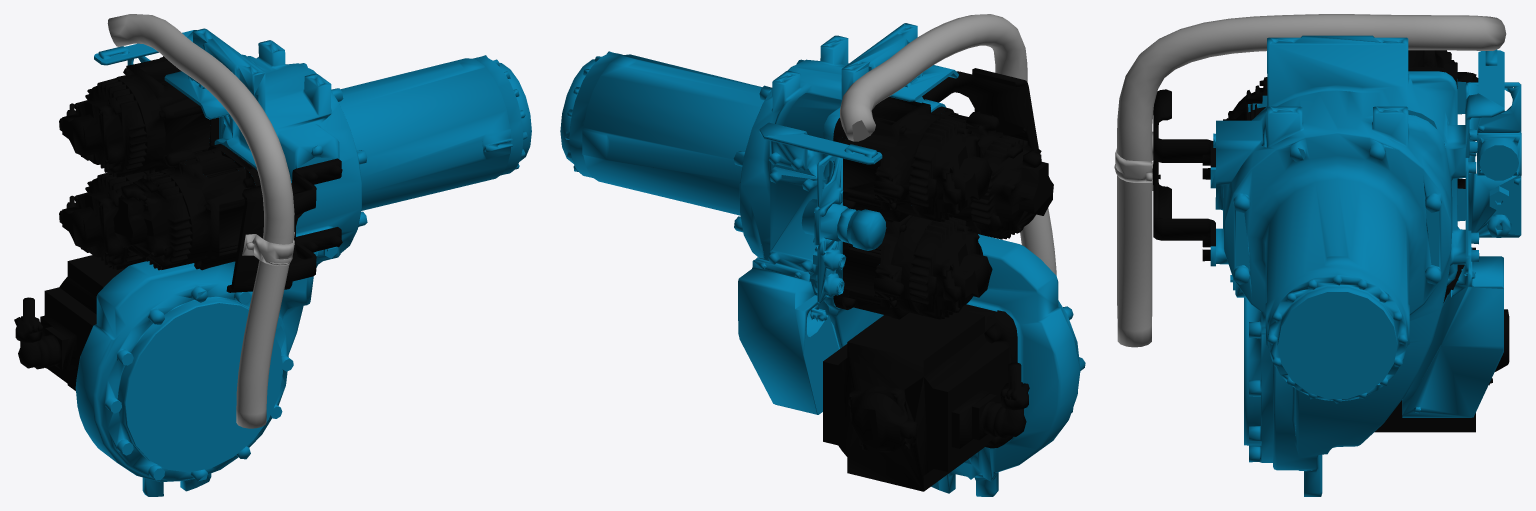
3 views of the same model, side by side, from view 1: azimuth 30°, elevation 25°; view 2: azimuth 150°, elevation 25°; view 3: azimuth 270°, elevation 25° (orthographic). The views are drawn at different scales.
Visible parts, largest first — view 1: f_1-06vxl70-a0_lk3; view 2: f_1-06vxl70-a0_lk3; view 3: f_1-06vxl70-a0_lk3.
Part boxes in pixels (left/top/right/bottom): f_1-06vxl70-a0_lk3: left=14, top=14, right=531, bottom=496; f_1-06vxl70-a0_lk3: left=560, top=14, right=1085, bottom=496; f_1-06vxl70-a0_lk3: left=1114, top=14, right=1521, bottom=496.
Size of the model in its own units: 0.6859 by 0.4618 by 0.612.
